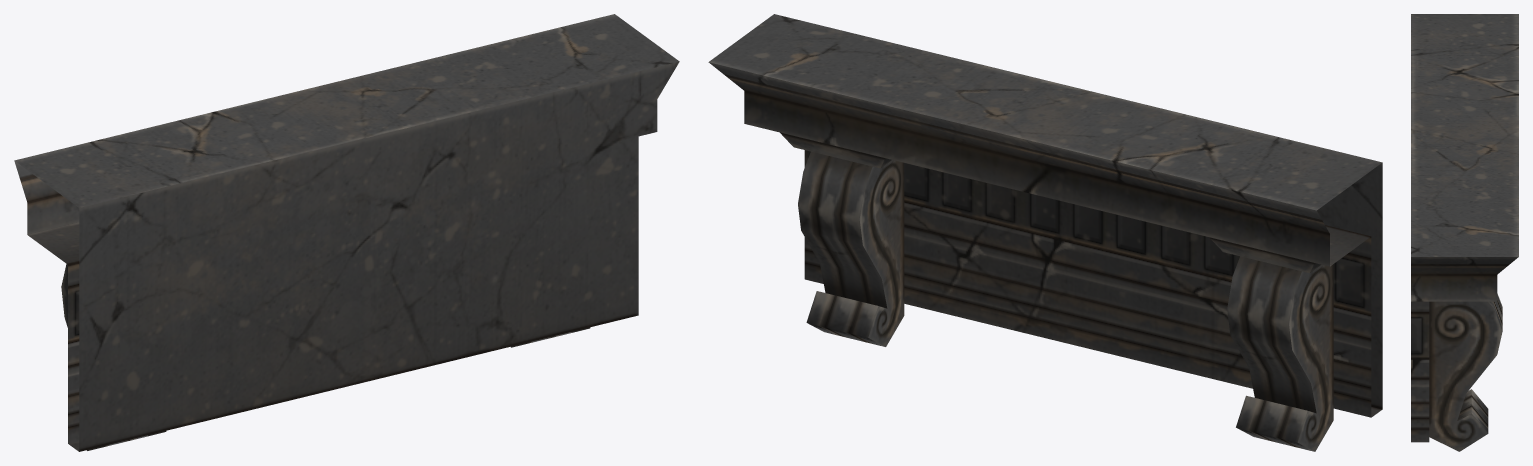
File: ARC0110001.fbx
The picture shows the model from 3 angles, left to right: view 1: azimuth 30°, elevation 25°; view 2: azimuth 150°, elevation 25°; view 3: azimuth 270°, elevation 25°; orthographic projection. The views are drawn at different scales.
Parts seen in each view (by area): view 1: smARC0110001; view 2: smARC0110001; view 3: smARC0110001.
Part boxes in pixels (x1,y1,x2,y2): smARC0110001: [14, 14, 679, 451]; smARC0110001: [708, 14, 1382, 451]; smARC0110001: [1411, 14, 1518, 451].
Size of the model in its own units: 347 by 151 by 65.
Materials: 1 (1 with a texture image).
